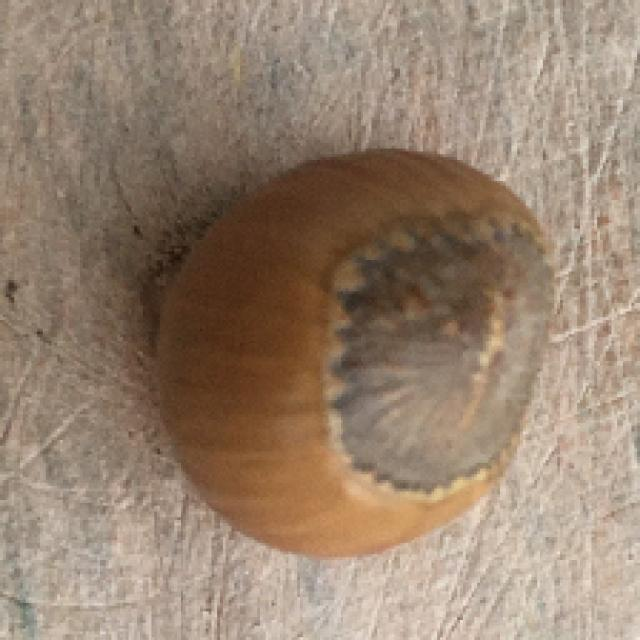damagedHazelnut: (123, 144, 570, 564)
